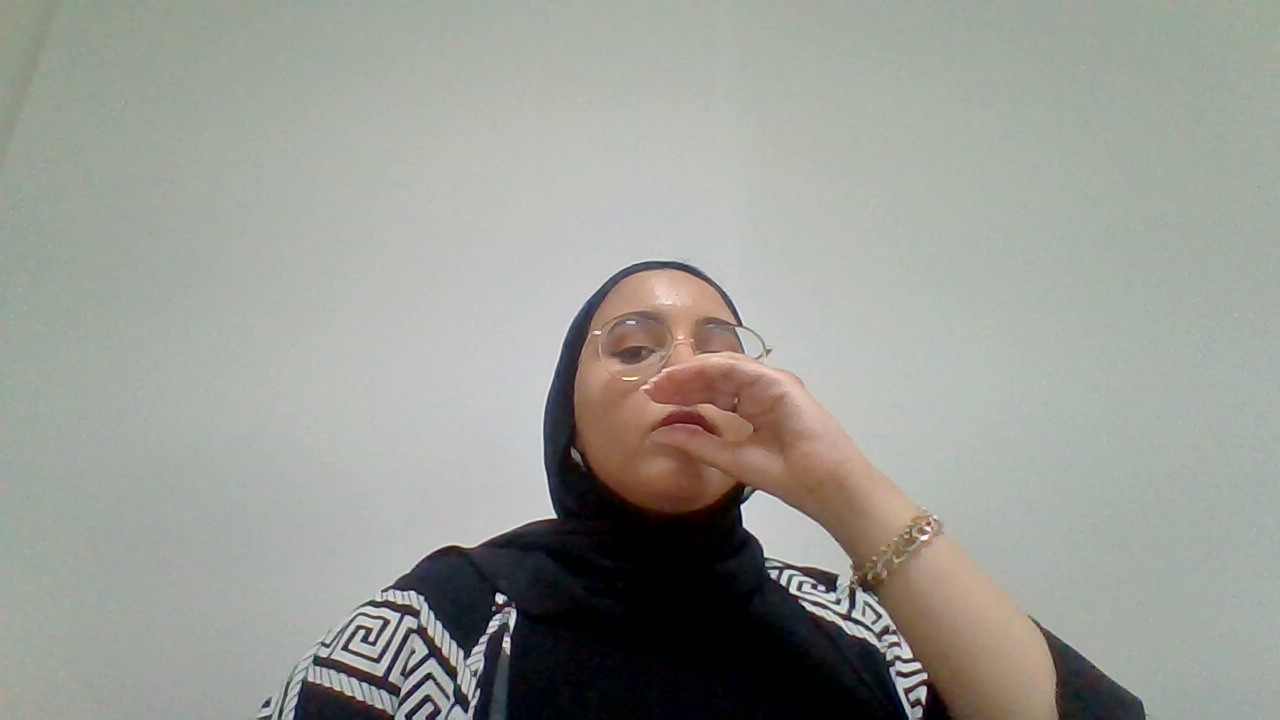drink: (630, 360, 882, 509)
